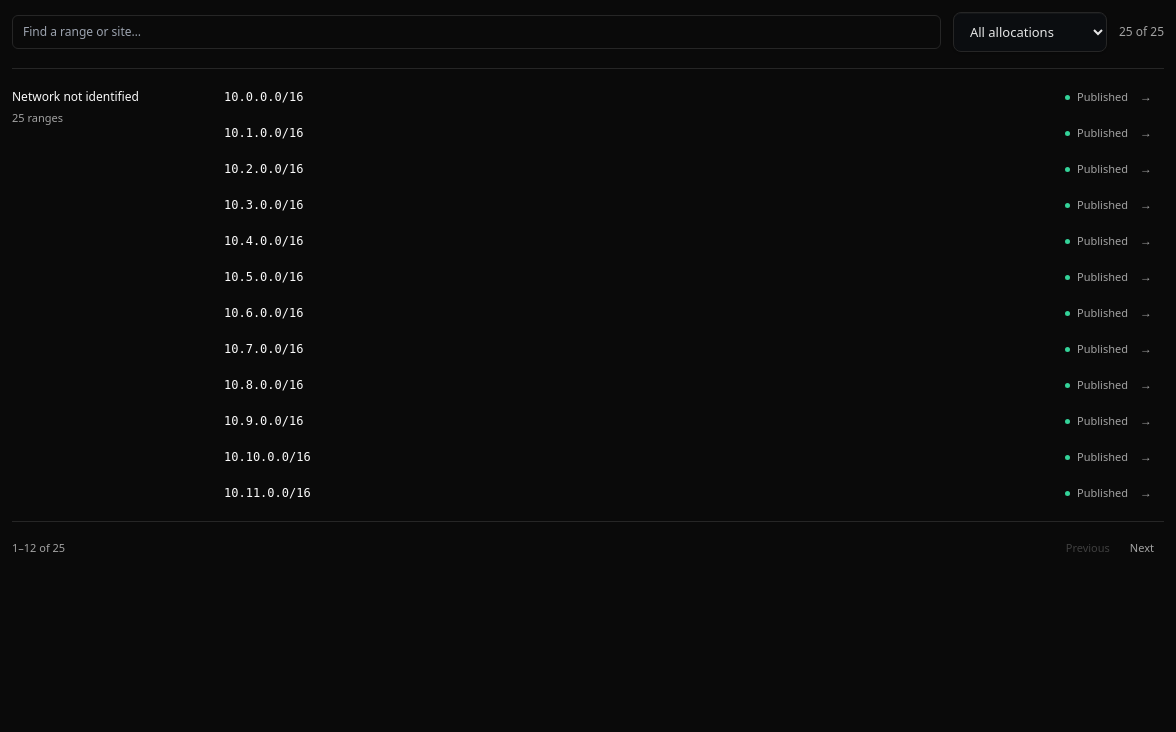
Scenario: pages a large inventory and searches beyond the visible page
The image size is (1176, 732).
Expected: the text "1–12 of 25" is shown, [12, 540, 65, 556]
Expected: the button "10.24.0.0" is not shown
Click the button "Next" at [1142, 548], box [1120, 534, 1164, 562]
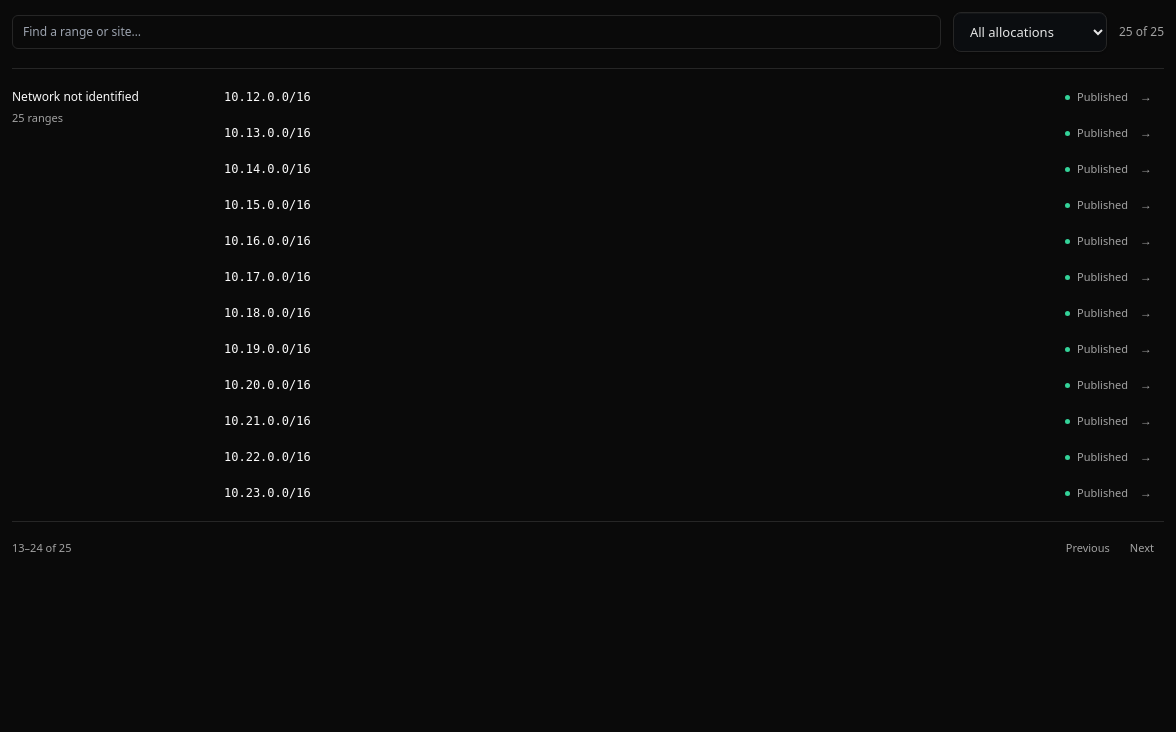
Click the button "Next" at [1142, 548], box [1120, 534, 1164, 562]
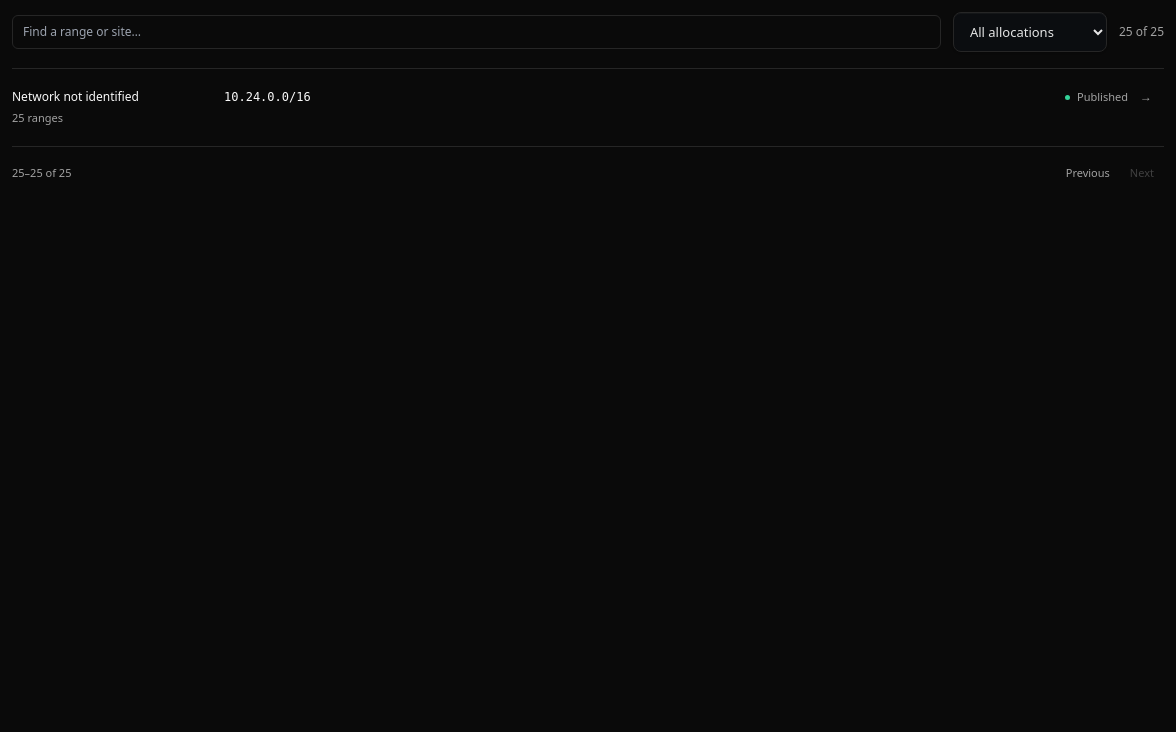
Expected: the button "10.24.0.0/16 Published →" is shown, [212, 79, 1164, 115]
Type "10.0.0.0" into the field named "Search routing graph" at [476, 32], box [12, 15, 941, 49]
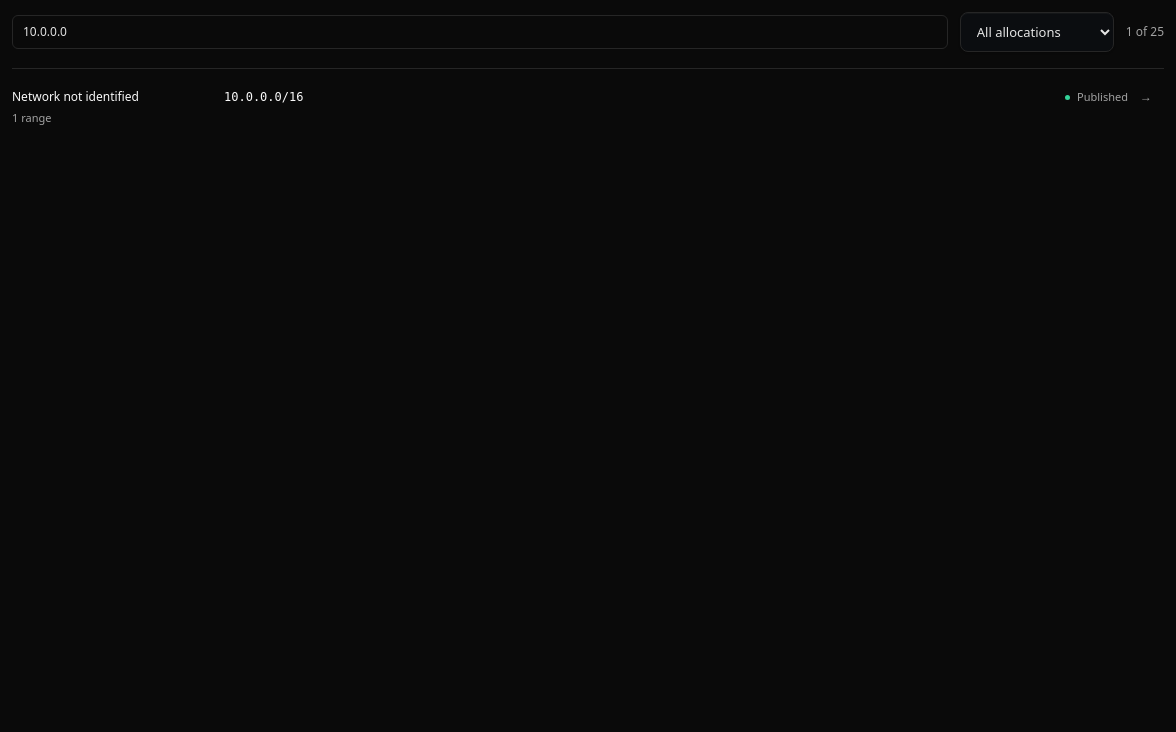
Expected: the button "10.0.0.0/16 Published →" is shown, [212, 79, 1164, 115]
Expected: the button "Next" is gone
